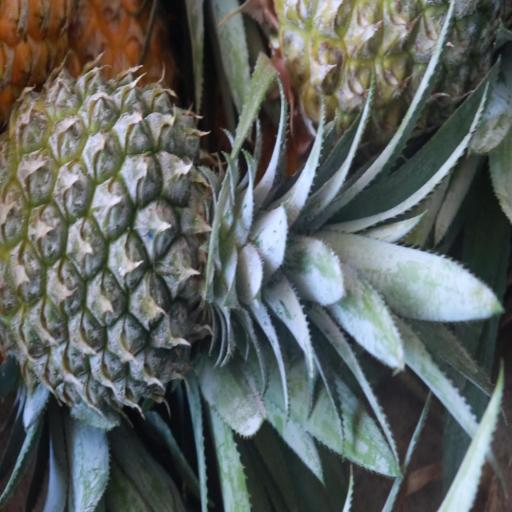------------------------------: (278, 0, 504, 147)
